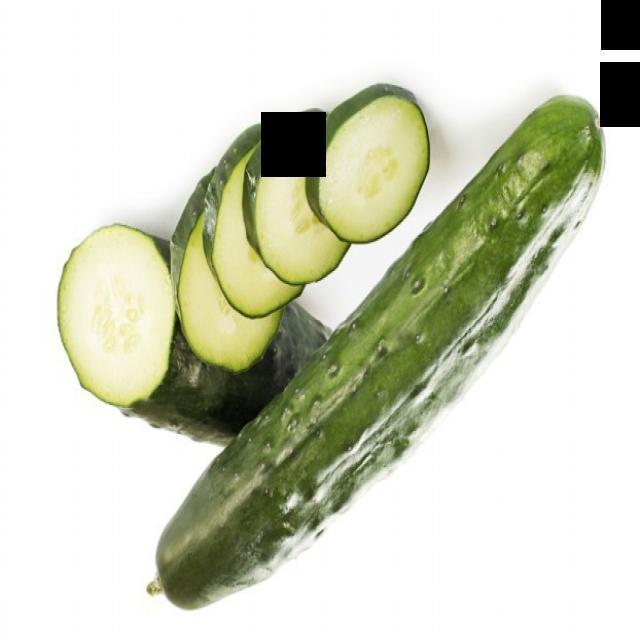cucumber: (55, 71, 640, 640), (49, 209, 388, 522), (140, 95, 480, 392), (176, 100, 360, 346), (278, 48, 448, 260), (222, 81, 376, 311)
